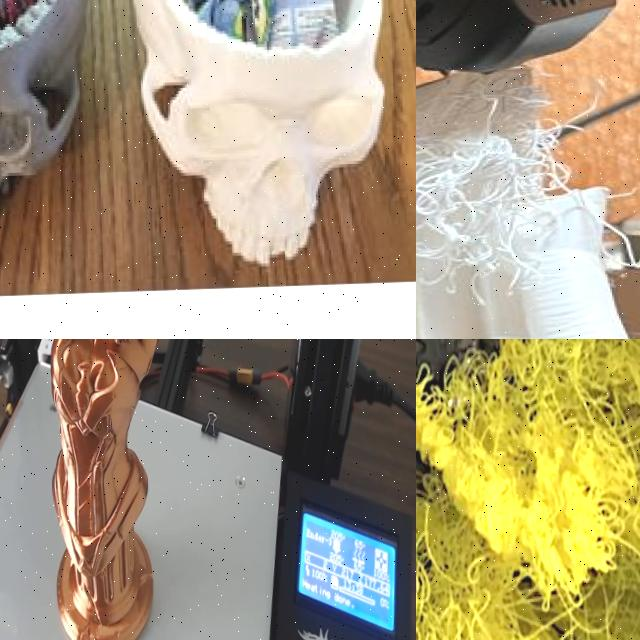spaghetti: (416, 339, 640, 640), (416, 36, 640, 293)
